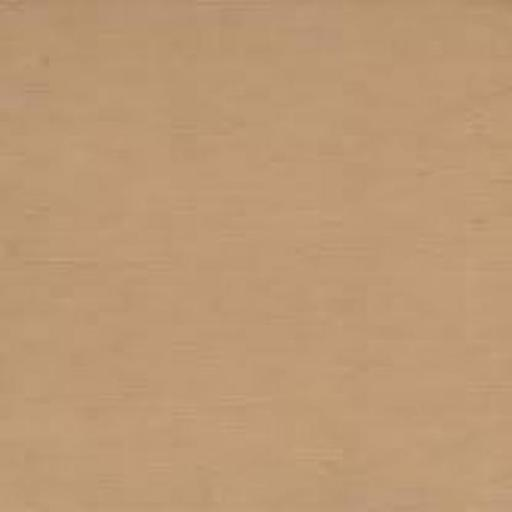cardboard: (0, 0, 510, 511)
